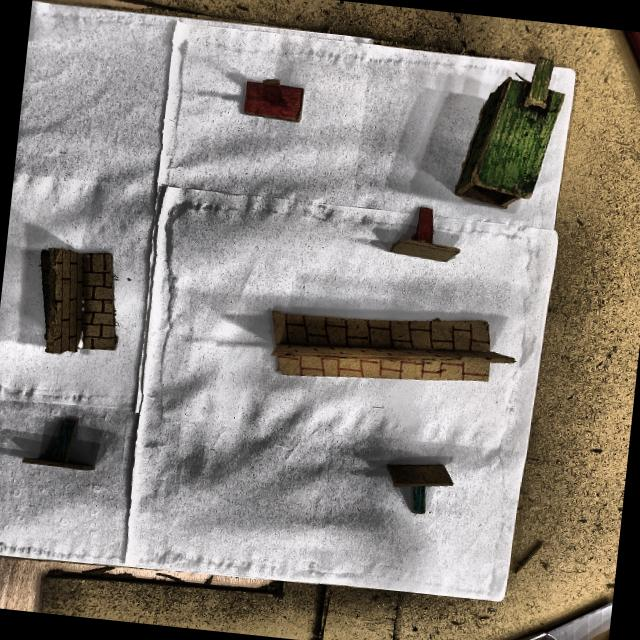Dead soldier -enemy-: (385, 203, 459, 266)
Dead soldier -frd-: (20, 414, 110, 477), (384, 459, 455, 516)
Tank: (457, 61, 561, 207)
Wall: (268, 308, 513, 385), (41, 253, 117, 354)
enemy: (242, 79, 294, 116)
